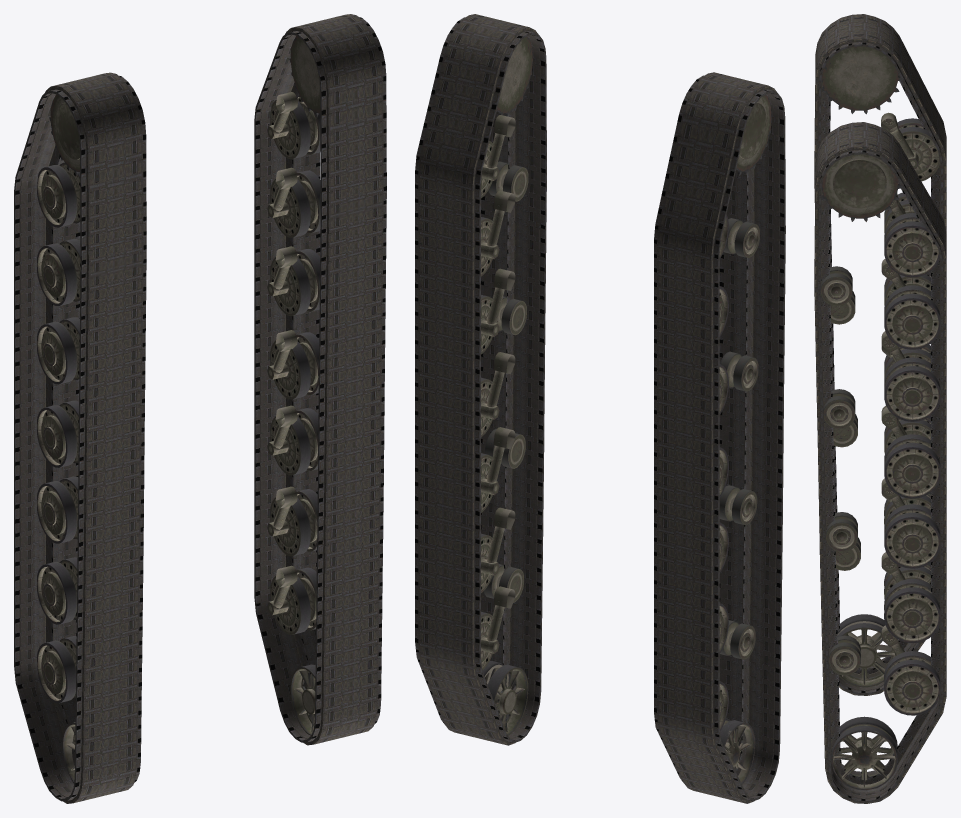
File: Chassis.glb
The picture shows the model from 3 angles, left to right: view 1: azimuth 30°, elevation 25°; view 2: azimuth 150°, elevation 25°; view 3: azimuth 270°, elevation 25°; orthographic projection. The views are drawn at different scales.
Visible parts, largest first — view 1: set_1_group_0, set_0_group_0, set_3_group_0, set_2_group_0; view 2: set_1_group_0, set_0_group_0, set_3_group_0, set_2_group_0; view 3: set_3_group_0, set_0_group_0, set_2_group_0, set_1_group_0.
Boxes of the visible parts, x1=… form: set_1_group_0: x1=14, y1=72, x2=146, y2=803; set_0_group_0: x1=254, y1=14, x2=386, y2=745; set_3_group_0: x1=267, y1=36, x2=320, y2=735; set_2_group_0: x1=37, y1=94, x2=80, y2=783; set_1_group_0: x1=654, y1=72, x2=785, y2=803; set_0_group_0: x1=415, y1=14, x2=546, y2=745; set_3_group_0: x1=481, y1=36, x2=532, y2=735; set_2_group_0: x1=719, y1=95, x2=771, y2=784; set_3_group_0: x1=821, y1=154, x2=940, y2=790; set_0_group_0: x1=814, y1=122, x2=946, y2=803; set_2_group_0: x1=822, y1=46, x2=939, y2=687; set_1_group_0: x1=814, y1=14, x2=946, y2=695.
Size of the model in its own units: 4 by 8.94 by 1.63.
4 materials, 4 textured.
